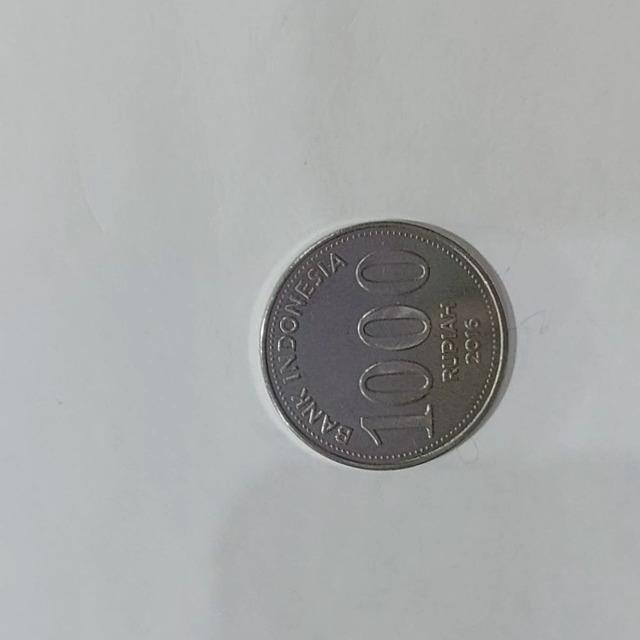Rp100: (258, 217, 513, 471)
